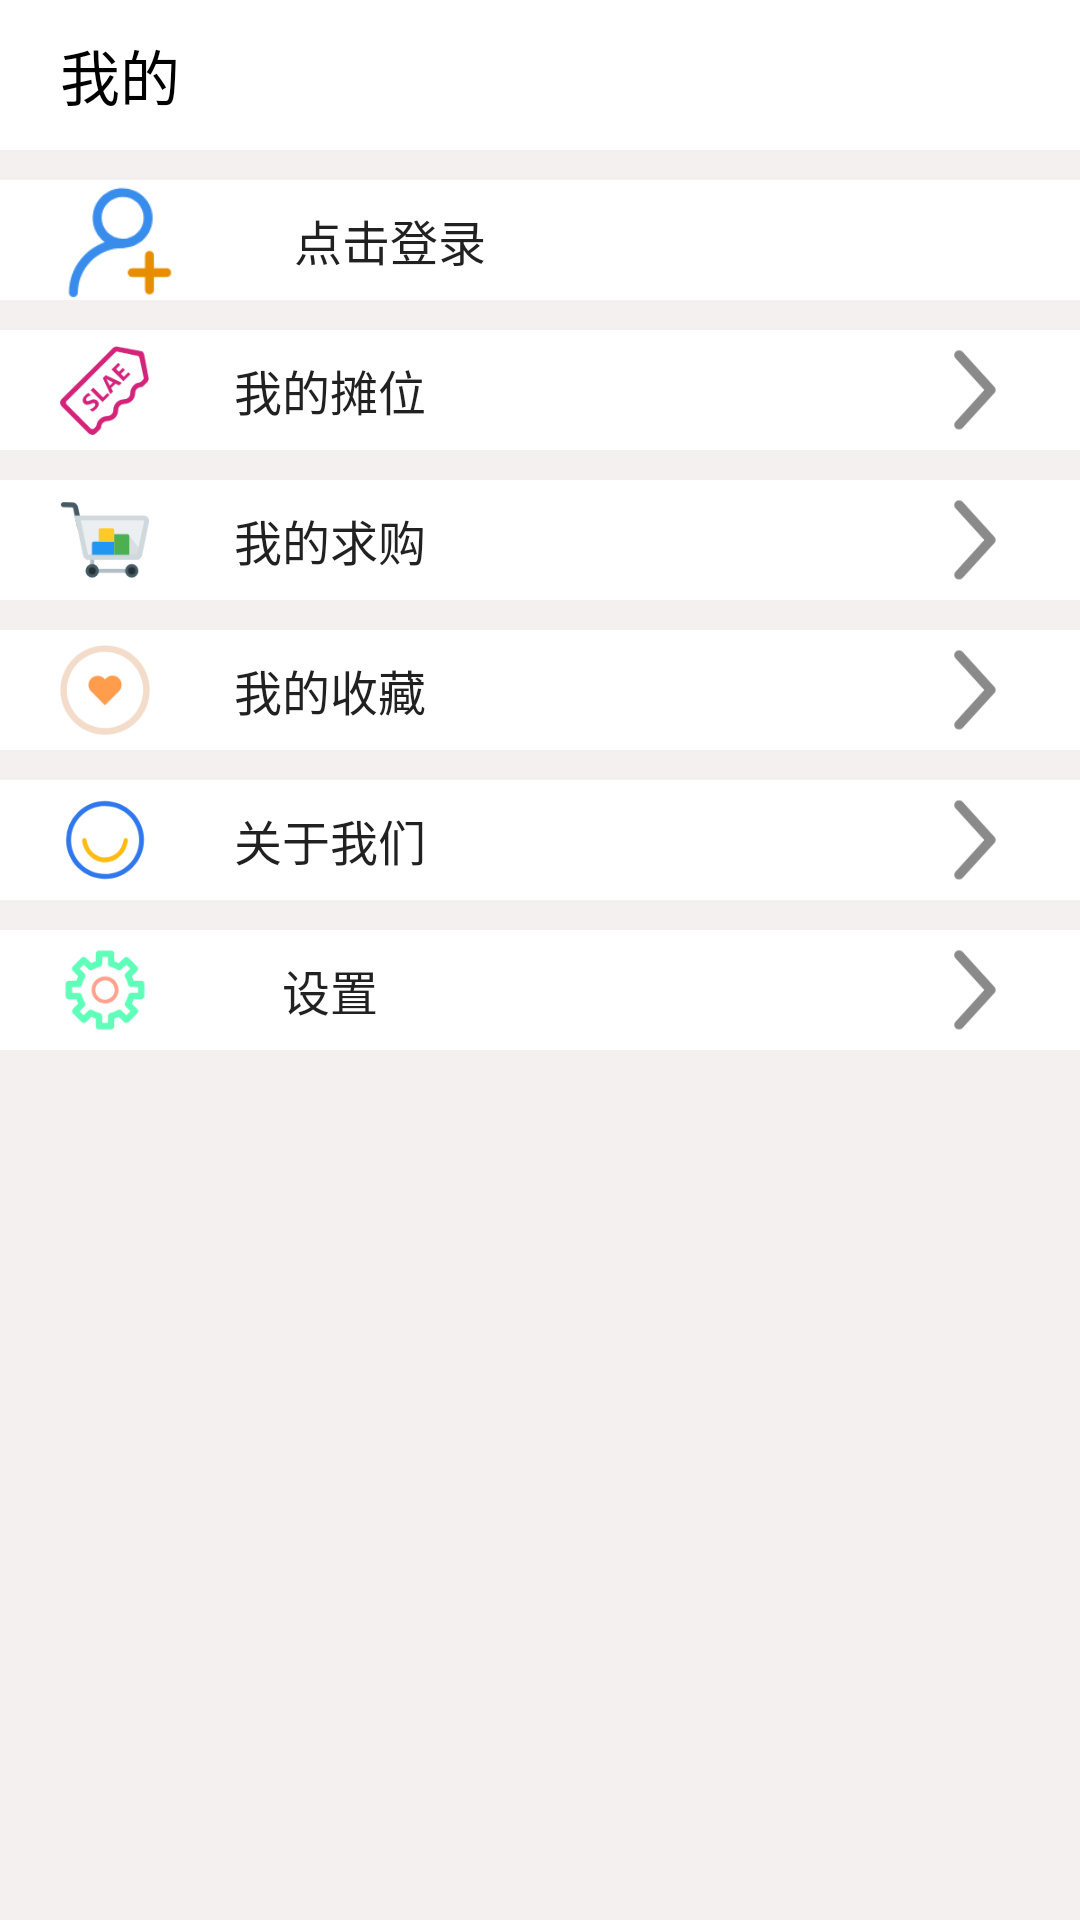

Locate icon controls on the screen. Image size 1080 × 1920, boxes as detection(x1, y1, x2, y2).
arrow: detection(954, 350, 996, 430), detection(954, 500, 996, 580), detection(954, 650, 996, 730), detection(954, 800, 996, 880), detection(954, 950, 996, 1030)
collection: detection(60, 645, 150, 735)
login: detection(68, 187, 172, 297)
mybuy: detection(61, 502, 149, 578)
setting: detection(65, 950, 145, 1030)
